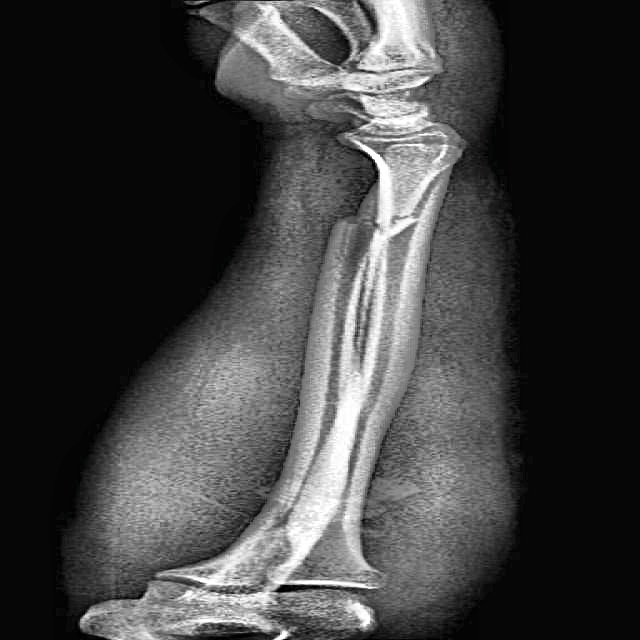Oblique Displaced: (283, 187, 450, 293)
